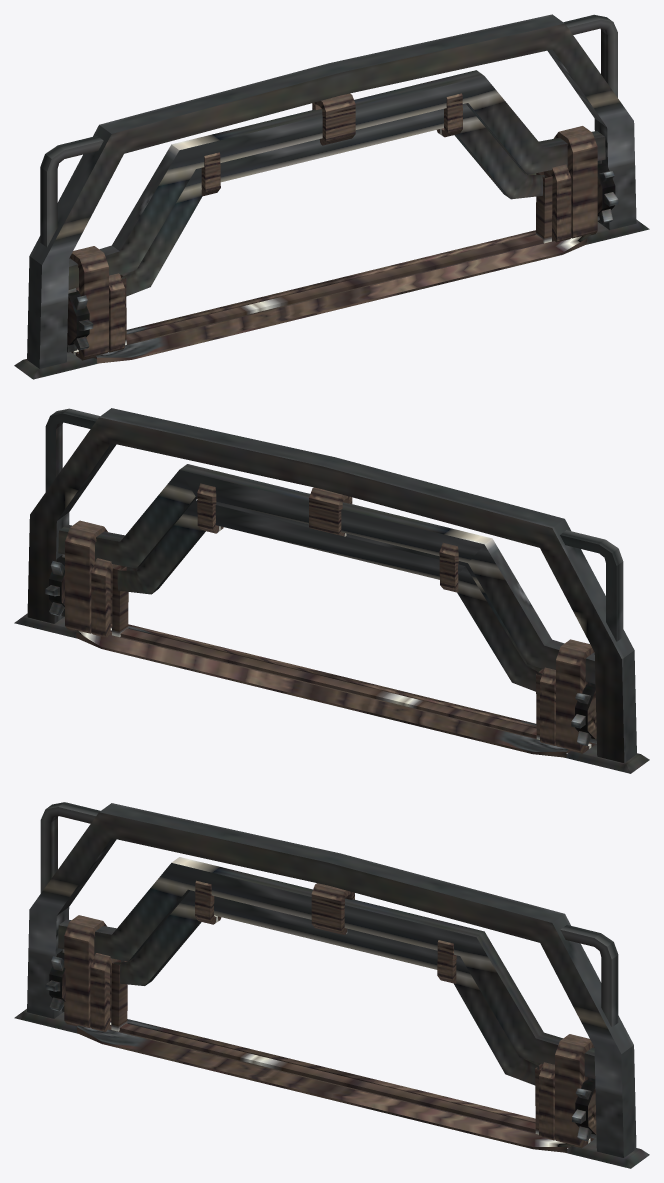
The model's file is SM_EN_1002_langan02.FBX.
3 renders of one model, top to bottom at view 1: azimuth 30°, elevation 25°; view 2: azimuth 150°, elevation 25°; view 3: azimuth 330°, elevation 25°, orthographic.
Visible parts, largest first — view 1: SM_EN_1002_langan02; view 2: SM_EN_1002_langan02; view 3: SM_EN_1002_langan02.
Part boxes in pixels (bbox=[...]): SM_EN_1002_langan02: bbox=[14, 14, 649, 379]; SM_EN_1002_langan02: bbox=[14, 408, 649, 773]; SM_EN_1002_langan02: bbox=[14, 802, 649, 1168].
Bounding box in the file's own units: 67.26 × 23.93 × 7.19.
